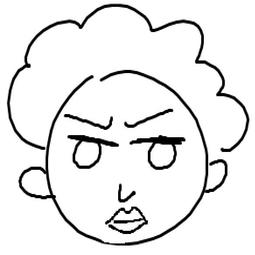cupid_mouth: (104, 206, 150, 234)
ear: (15, 163, 56, 201), (199, 157, 232, 194)
empty_eye: (71, 136, 105, 171), (144, 138, 177, 171)
frowning_eyebrow: (123, 103, 177, 131), (61, 110, 113, 131)
nose: (115, 178, 139, 203)
